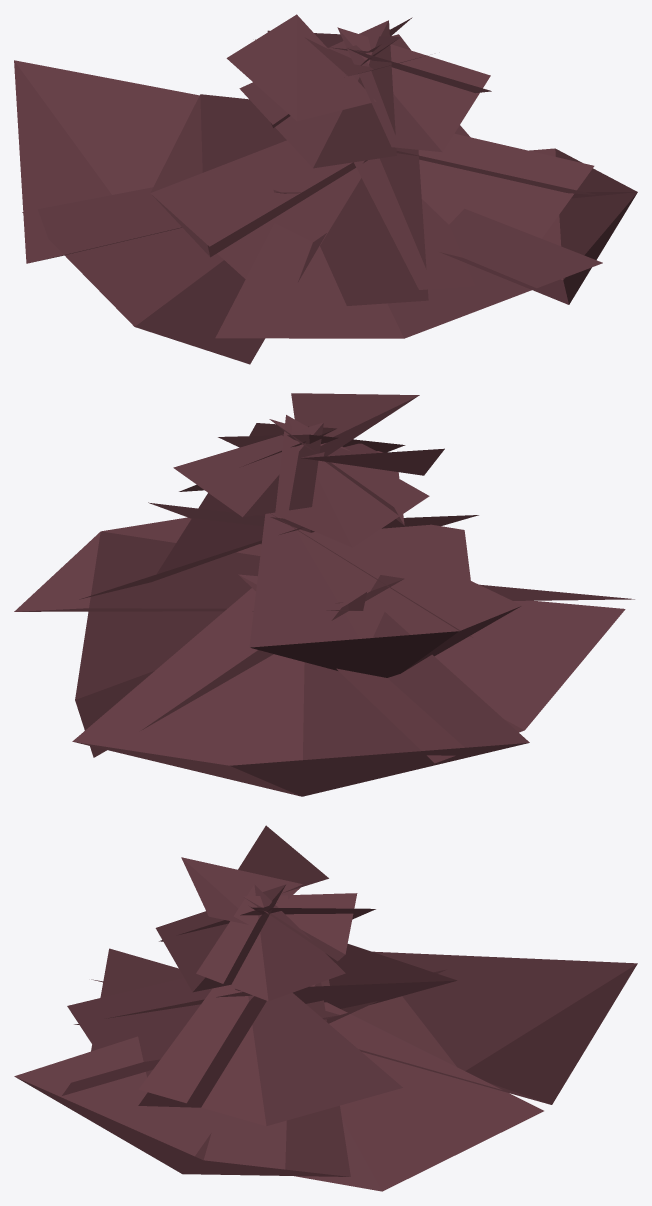
File: SmallBush.fbx
3 renders of one model, top to bottom at view 1: azimuth 30°, elevation 25°; view 2: azimuth 150°, elevation 25°; view 3: azimuth 270°, elevation 25°, orthographic. The views are drawn at different scales.
Parts seen in each view (by area): view 1: plant-bush-small; view 2: plant-bush-small; view 3: plant-bush-small.
Part boxes in pixels (left/top/right/bottom): plant-bush-small: left=14, top=14, right=637, bottom=364; plant-bush-small: left=14, top=393, right=634, bottom=796; plant-bush-small: left=14, top=825, right=637, bottom=1191.
Size of the model in its own units: 52.56 by 26.37 by 62.51.
